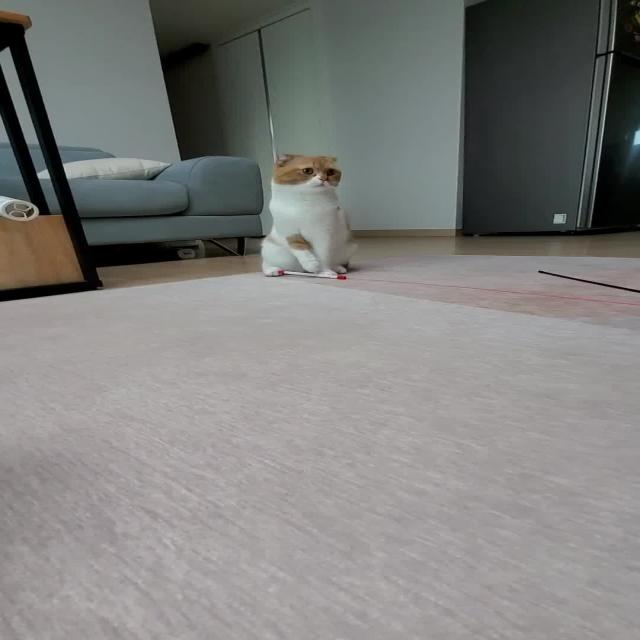cat: (237, 145, 369, 287)
